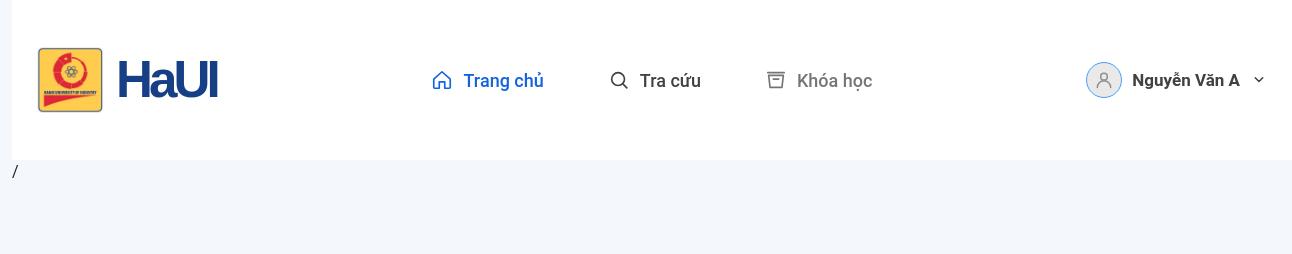
MainHeader › logs out and redirects to login
Click the button with class "account-trigger" at point(1177, 80), box [1086, 56, 1268, 104]
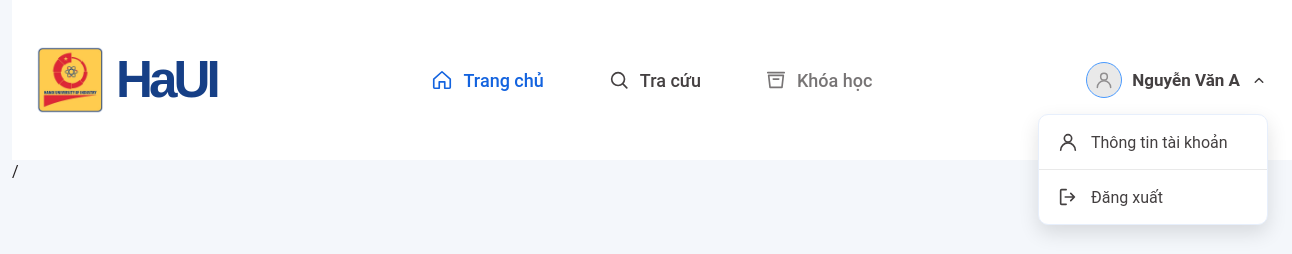
Click the menu item "Đăng xuất" at point(1153, 196), box [1039, 169, 1267, 224]
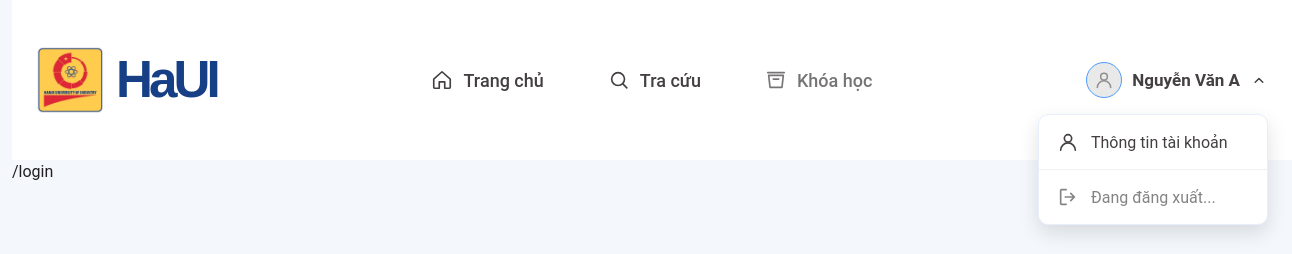
Now the text with test id "location" reads "/login", box [12, 162, 53, 181]
